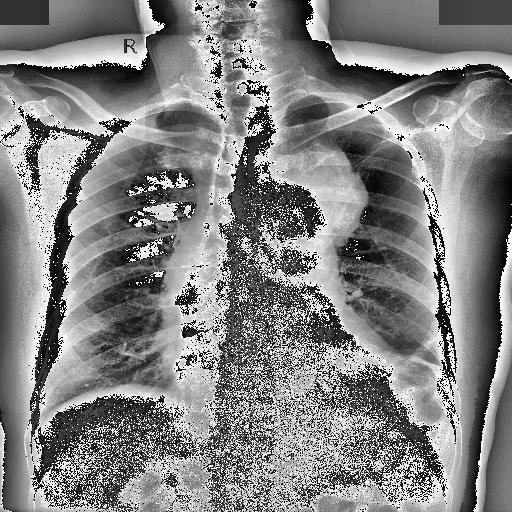0- Aortic enlargement: (235, 178, 337, 282), (258, 177, 336, 272), (264, 176, 340, 266)
10- Pleural effusion: (432, 351, 456, 384)
11- Pleural thickening: (432, 351, 456, 384)
13- Pulmonary fibrosis: (408, 334, 440, 358), (408, 338, 436, 362), (410, 335, 436, 360)
3- Cardiomegaly: (176, 344, 404, 414)
4- Consolidation: (248, 124, 368, 246)
8- Nodule-Mass: (248, 124, 368, 246), (256, 136, 368, 254), (276, 134, 368, 242)
9- Other lesion: (410, 335, 436, 360)
